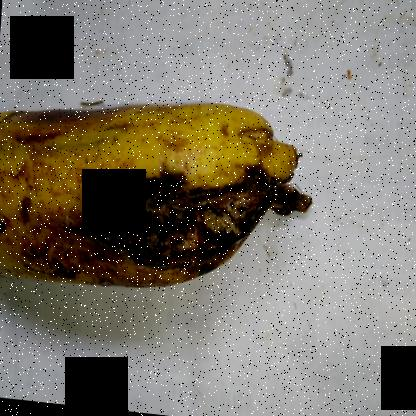ripe: (0, 89, 276, 298)
rotten: (85, 167, 318, 292), (2, 70, 133, 139)
